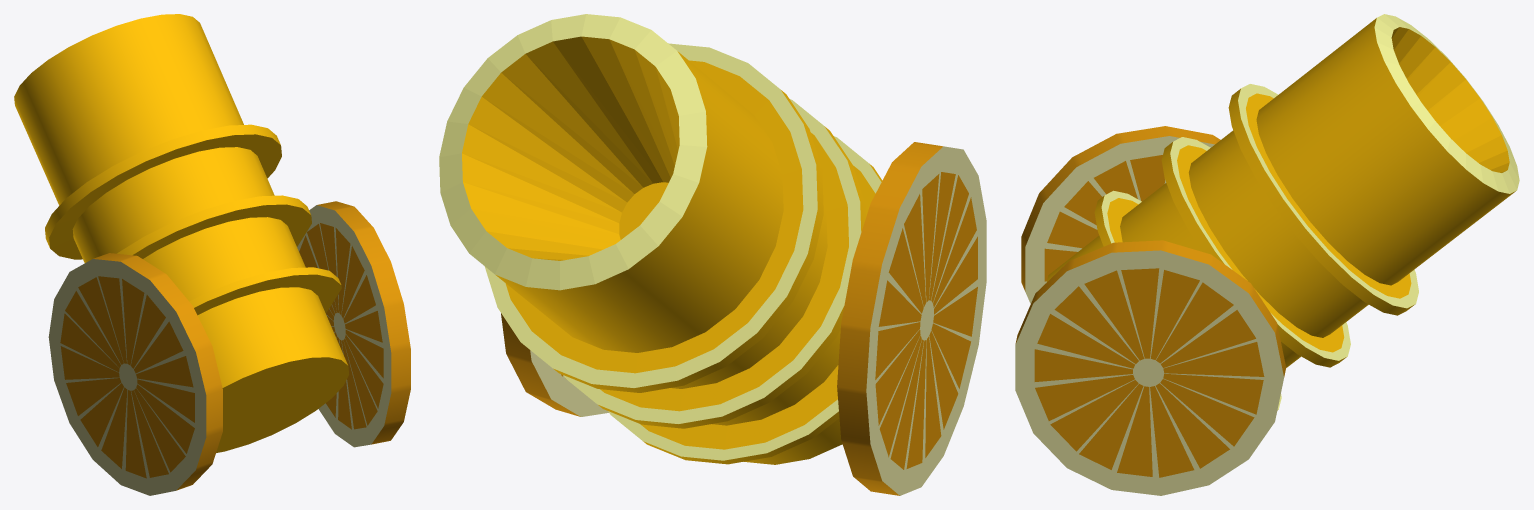
Rendered from canon_jaune.FBX.
3 views of the same model, side by side, from view 1: azimuth 30°, elevation 25°; view 2: azimuth 150°, elevation 25°; view 3: azimuth 270°, elevation 25° (orthographic). The views are drawn at different scales.
Visible parts, largest first — view 1: canon; view 2: canon; view 3: canon.
Part boxes in pixels (x1=…): canon: x1=14, y1=14, x2=410, y2=495; canon: x1=439, y1=14, x2=986, y2=495; canon: x1=1015, y1=14, x2=1519, y2=495.
Size of the model in its own units: 36.64 by 50.55 by 56.58.
